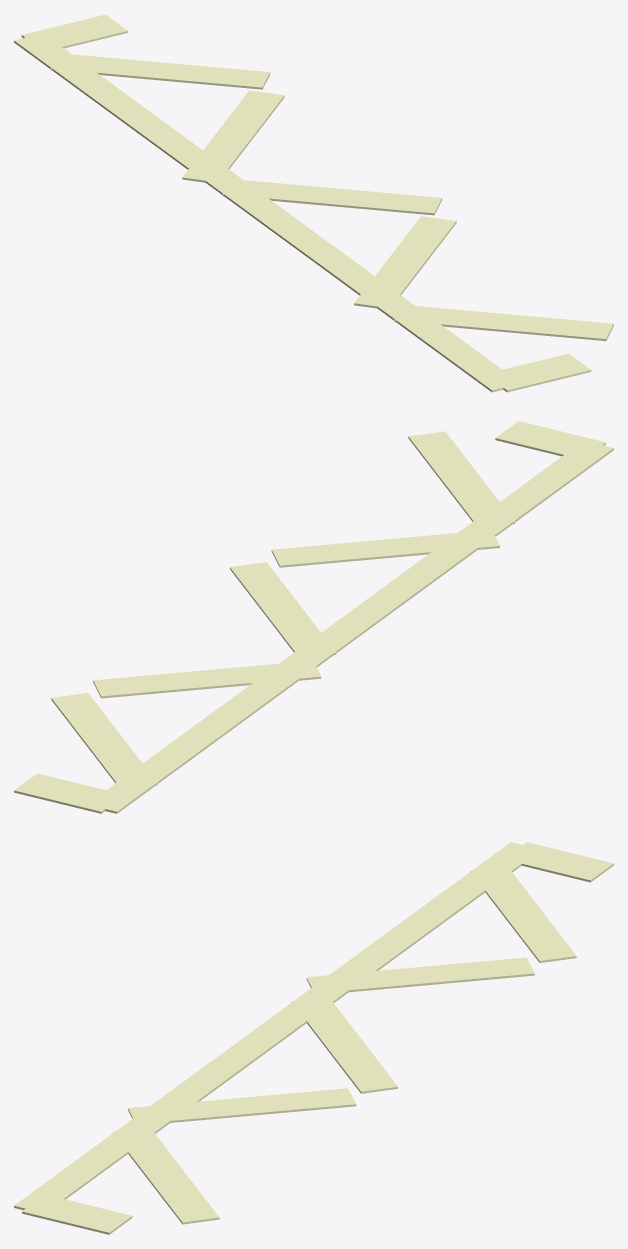
Rendered from marking_loading_zone_zigzag_white.glb.
The picture shows the model from 3 angles, top to bottom: view 1: azimuth 30°, elevation 25°; view 2: azimuth 150°, elevation 25°; view 3: azimuth 330°, elevation 25°; orthographic projection. The views are drawn at different scales.
Visible parts, largest first — view 1: edge_line, zigzag_2, zigzag_0, zigzag_4, zigzag_1, zigzag_3, cap_end, cap_start; view 2: edge_line, zigzag_1, zigzag_3, zigzag_2, zigzag_4, zigzag_0, cap_end, cap_start; view 3: edge_line, zigzag_1, zigzag_3, zigzag_4, zigzag_2, zigzag_0, cap_end, cap_start.
Part boxes in pixels (box(x1,y1,x2,y2)): edge_line: box(14, 33, 520, 392); zigzag_2: box(222, 179, 442, 215); zigzag_0: box(50, 53, 270, 89); zigzag_4: box(394, 305, 613, 340); zigzag_1: box(182, 90, 284, 182); zigzag_3: box(354, 216, 456, 308); cap_end: box(485, 353, 591, 392); cap_start: box(21, 14, 127, 50); edge_line: box(87, 441, 613, 813); zigzag_1: box(93, 663, 321, 698); zigzag_3: box(271, 531, 499, 567); zigzag_2: box(230, 562, 336, 657); zigzag_4: box(408, 431, 514, 526); zigzag_0: box(51, 693, 157, 785); cap_end: box(495, 421, 605, 458); cap_start: box(14, 773, 107, 813); edge_line: box(14, 842, 540, 1211); zigzag_1: box(306, 957, 534, 992); zigzag_3: box(128, 1088, 356, 1123); zigzag_4: box(113, 1127, 219, 1224); zigzag_2: box(291, 998, 397, 1093); zigzag_0: box(470, 865, 576, 962); cap_end: box(22, 1194, 132, 1234); cap_start: box(504, 842, 613, 882).
Size of the model in its own units: 0.5379 by 0.006 by 2.6.
